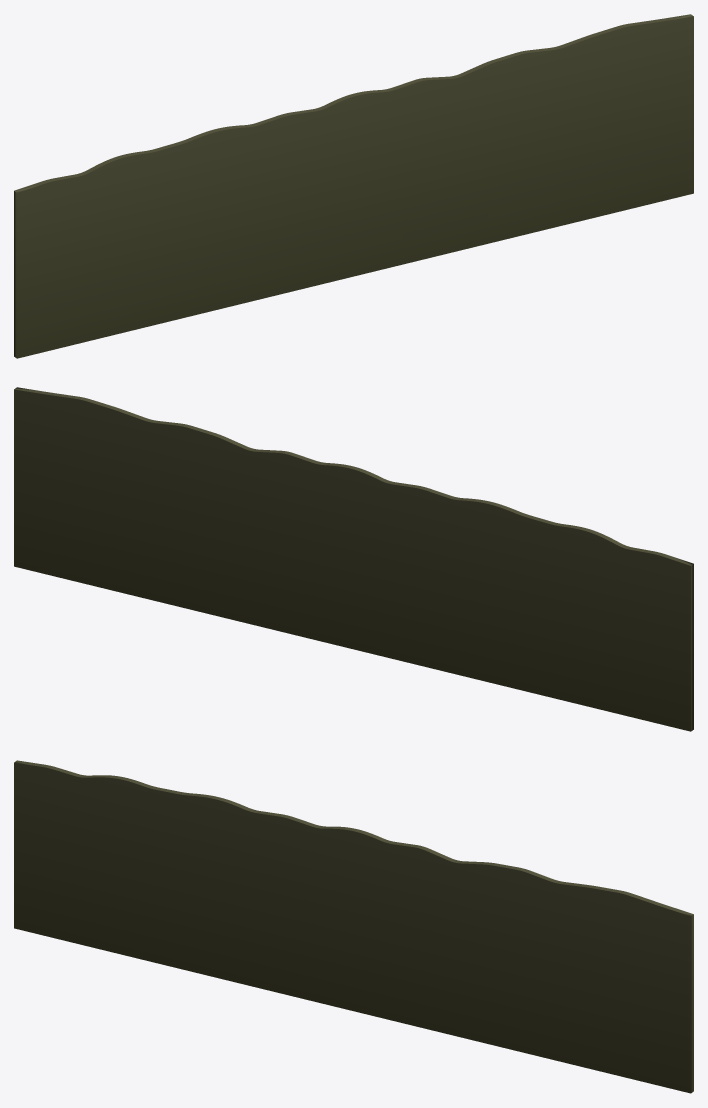
Rendered from WE02_FakeTreesLine1.fbx.
3 renders of one model, top to bottom at view 1: azimuth 30°, elevation 25°; view 2: azimuth 150°, elevation 25°; view 3: azimuth 330°, elevation 25°, orthographic.
Visible parts, largest first — view 1: pPlane1; view 2: pPlane1; view 3: pPlane1.
Boxes of the visible parts, left/top/right/bottom form: pPlane1: left=14, top=14, right=693, bottom=358; pPlane1: left=14, top=387, right=693, bottom=731; pPlane1: left=14, top=760, right=693, bottom=1093.
Bounding box in the file's own units: 4 × 1.03 × 0.0313.
